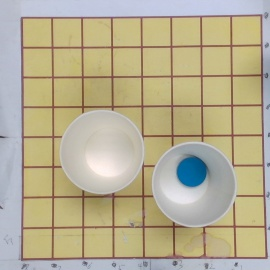cup: (58, 109, 147, 197)
cup_blue: (152, 142, 237, 228)
